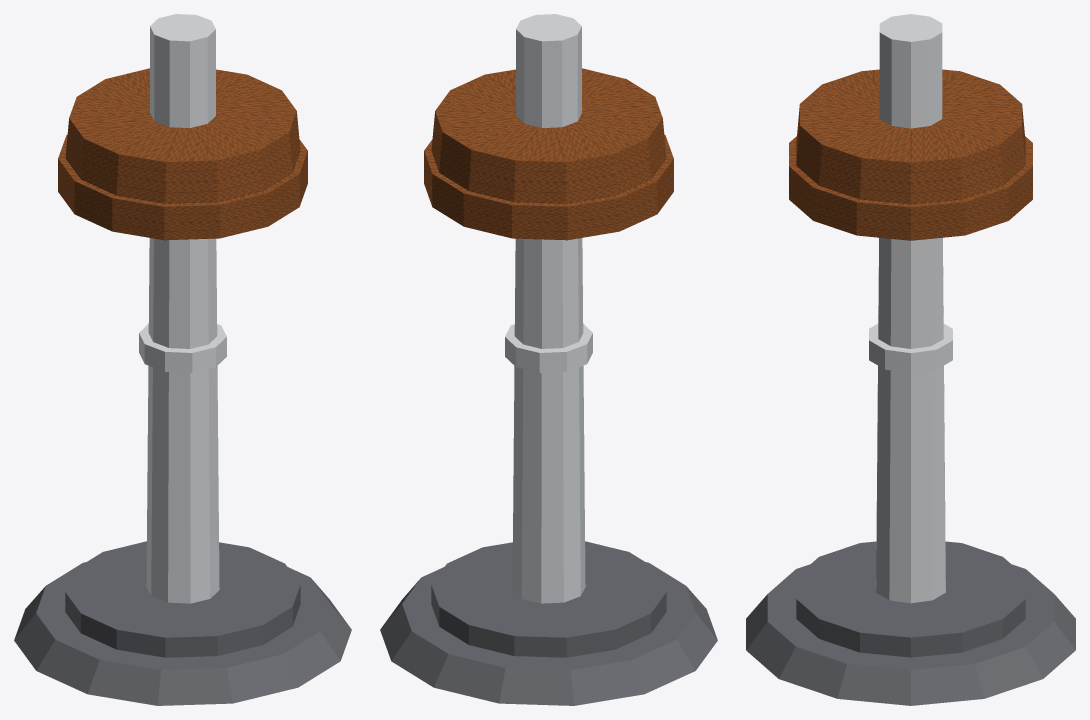
Rendered from counter_stool.glb.
3 renders of one model, left to right at view 1: azimuth 30°, elevation 25°; view 2: azimuth 150°, elevation 25°; view 3: azimuth 270°, elevation 25°, orthographic.
Parts seen in each view (by area): view 1: counter-stool-charcoal, counter-stool-steel, counter-stool-timber; view 2: counter-stool-charcoal, counter-stool-steel, counter-stool-timber; view 3: counter-stool-charcoal, counter-stool-timber, counter-stool-steel.
Boxes of the visible parts, x1,y1,x2,y2 form: counter-stool-charcoal: (14,541,351,705); counter-stool-steel: (139,14,226,603); counter-stool-timber: (58,68,307,240); counter-stool-charcoal: (380,541,717,705); counter-stool-steel: (505,14,592,603); counter-stool-timber: (424,68,673,240); counter-stool-charcoal: (746,541,1075,705); counter-stool-timber: (789,69,1032,240); counter-stool-steel: (869,14,952,603).
Size of the model in its own units: 0.46 by 0.91 by 0.4485.
Materials: 3 (1 with a texture image).
